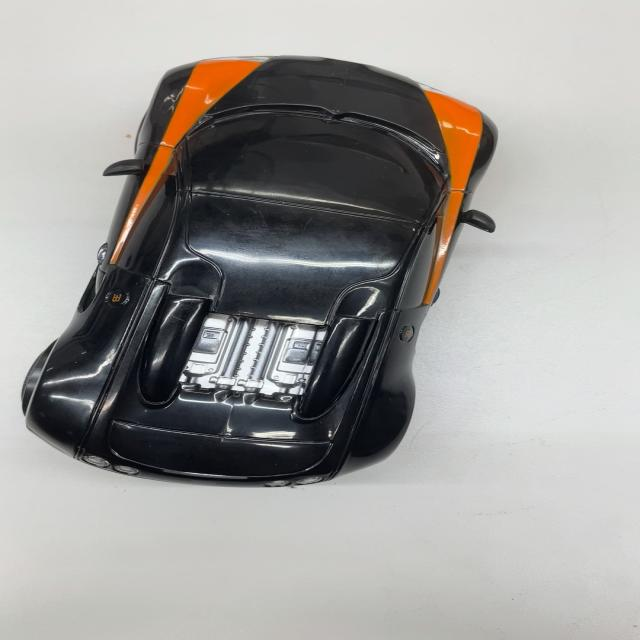vehicle_body: (21, 56, 496, 487)
